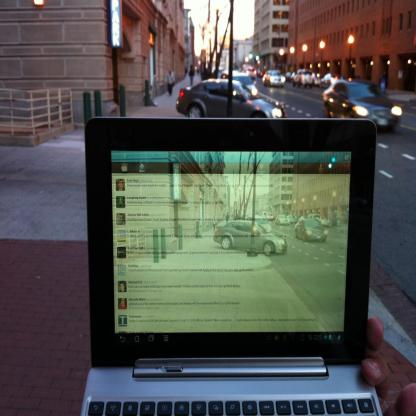board: (72, 106, 381, 416)
